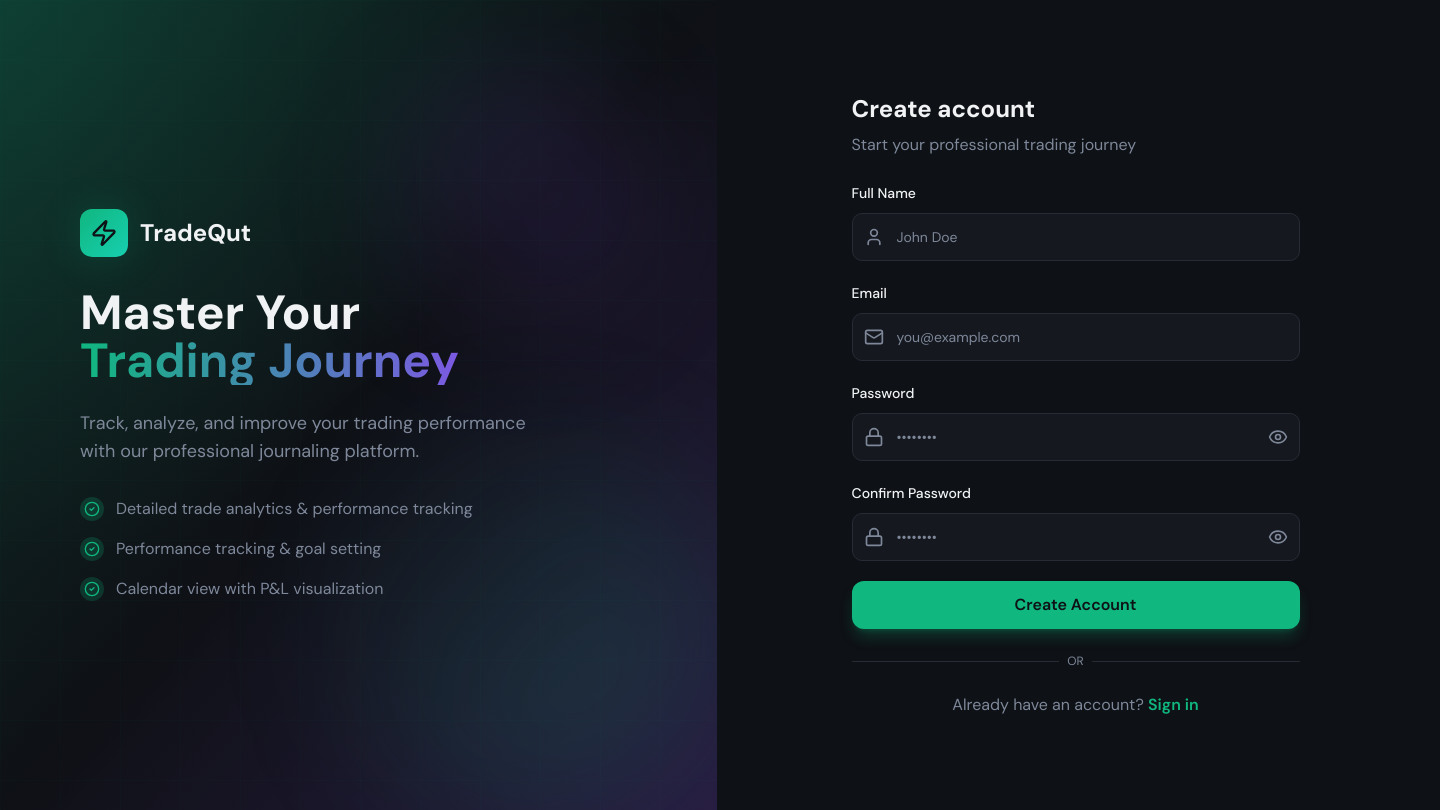
AuthPage › Signup View › shows password mismatch text when passwords differ
Type "password123" into the password field labelled "Password". click: (1076,437)
box: [852,413,1300,461]
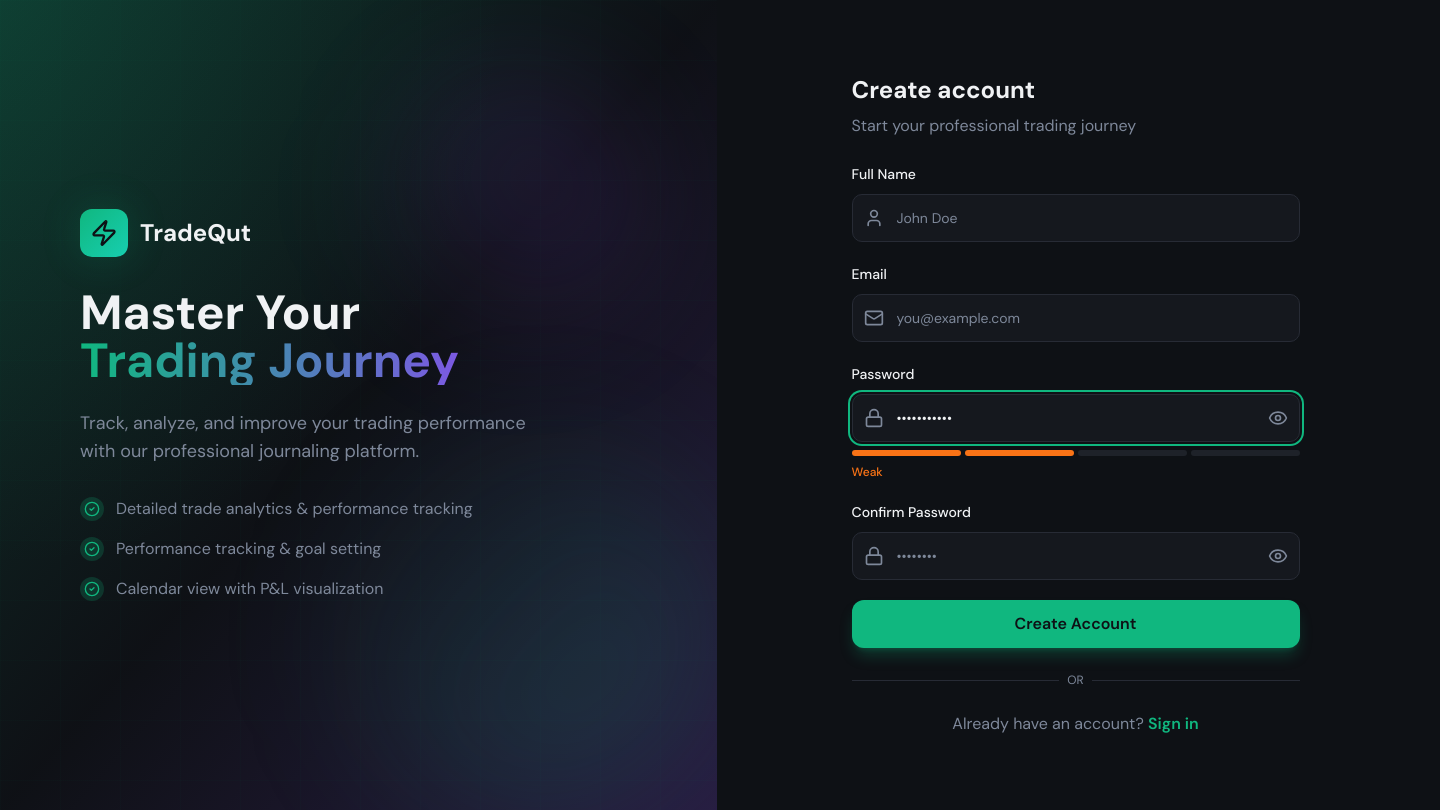
Type "differentpass" into the password field labelled "Confirm Password". click: (1076,556)
box: [852,532,1300,580]
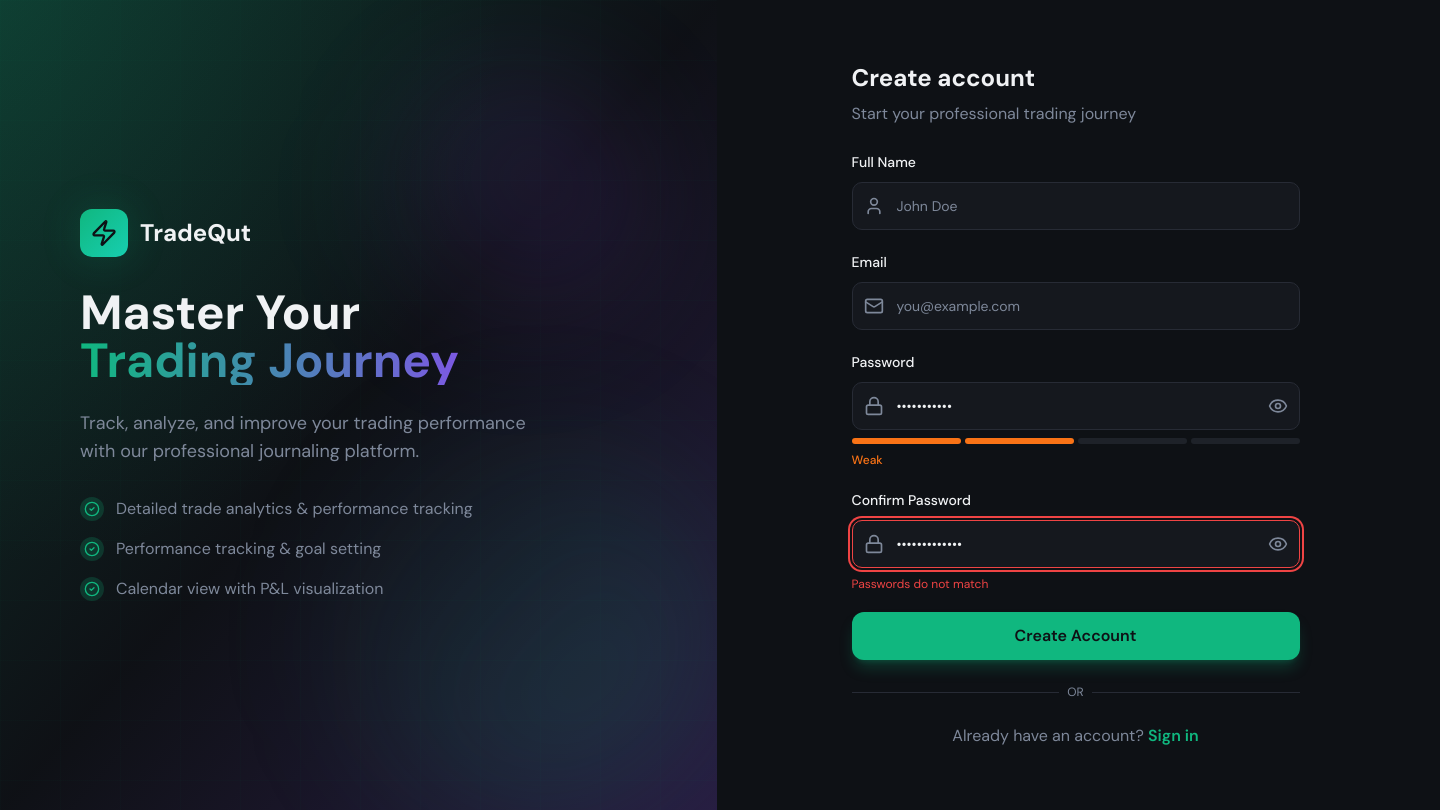
Expected: the text "Passwords do not match" is shown, [852,576,988,592]
